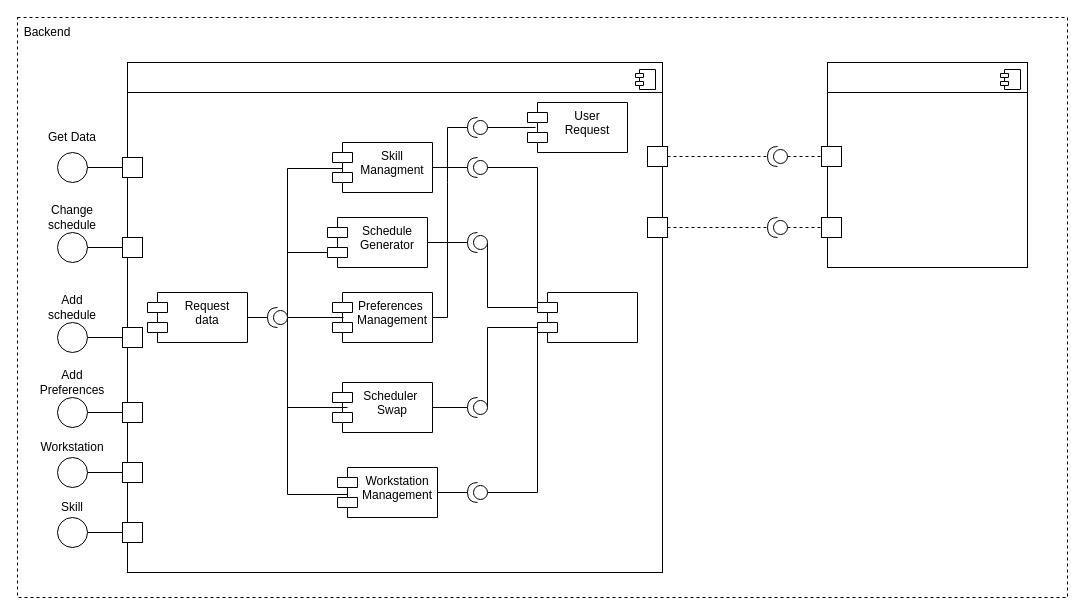
This 1085x615 diagram has some shape labels left out. The centre of each missing label's shape, as x and y in pixels:
Backend communication <<sub system>>: the point at 394,77
Database: the point at 927,77
Service Manager Request: the point at 587,317
